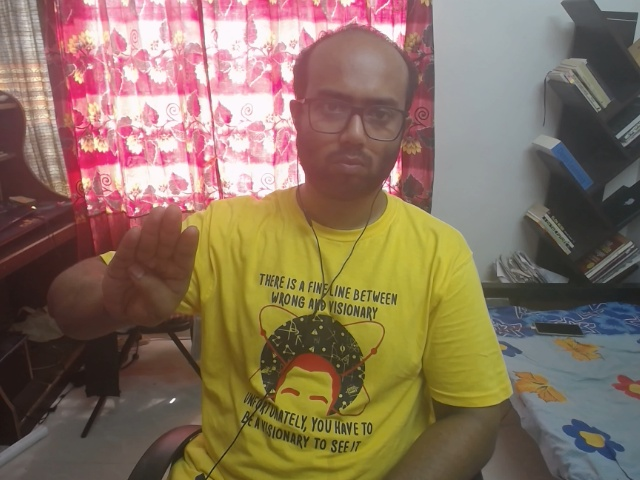counting: (91, 201, 215, 342)
